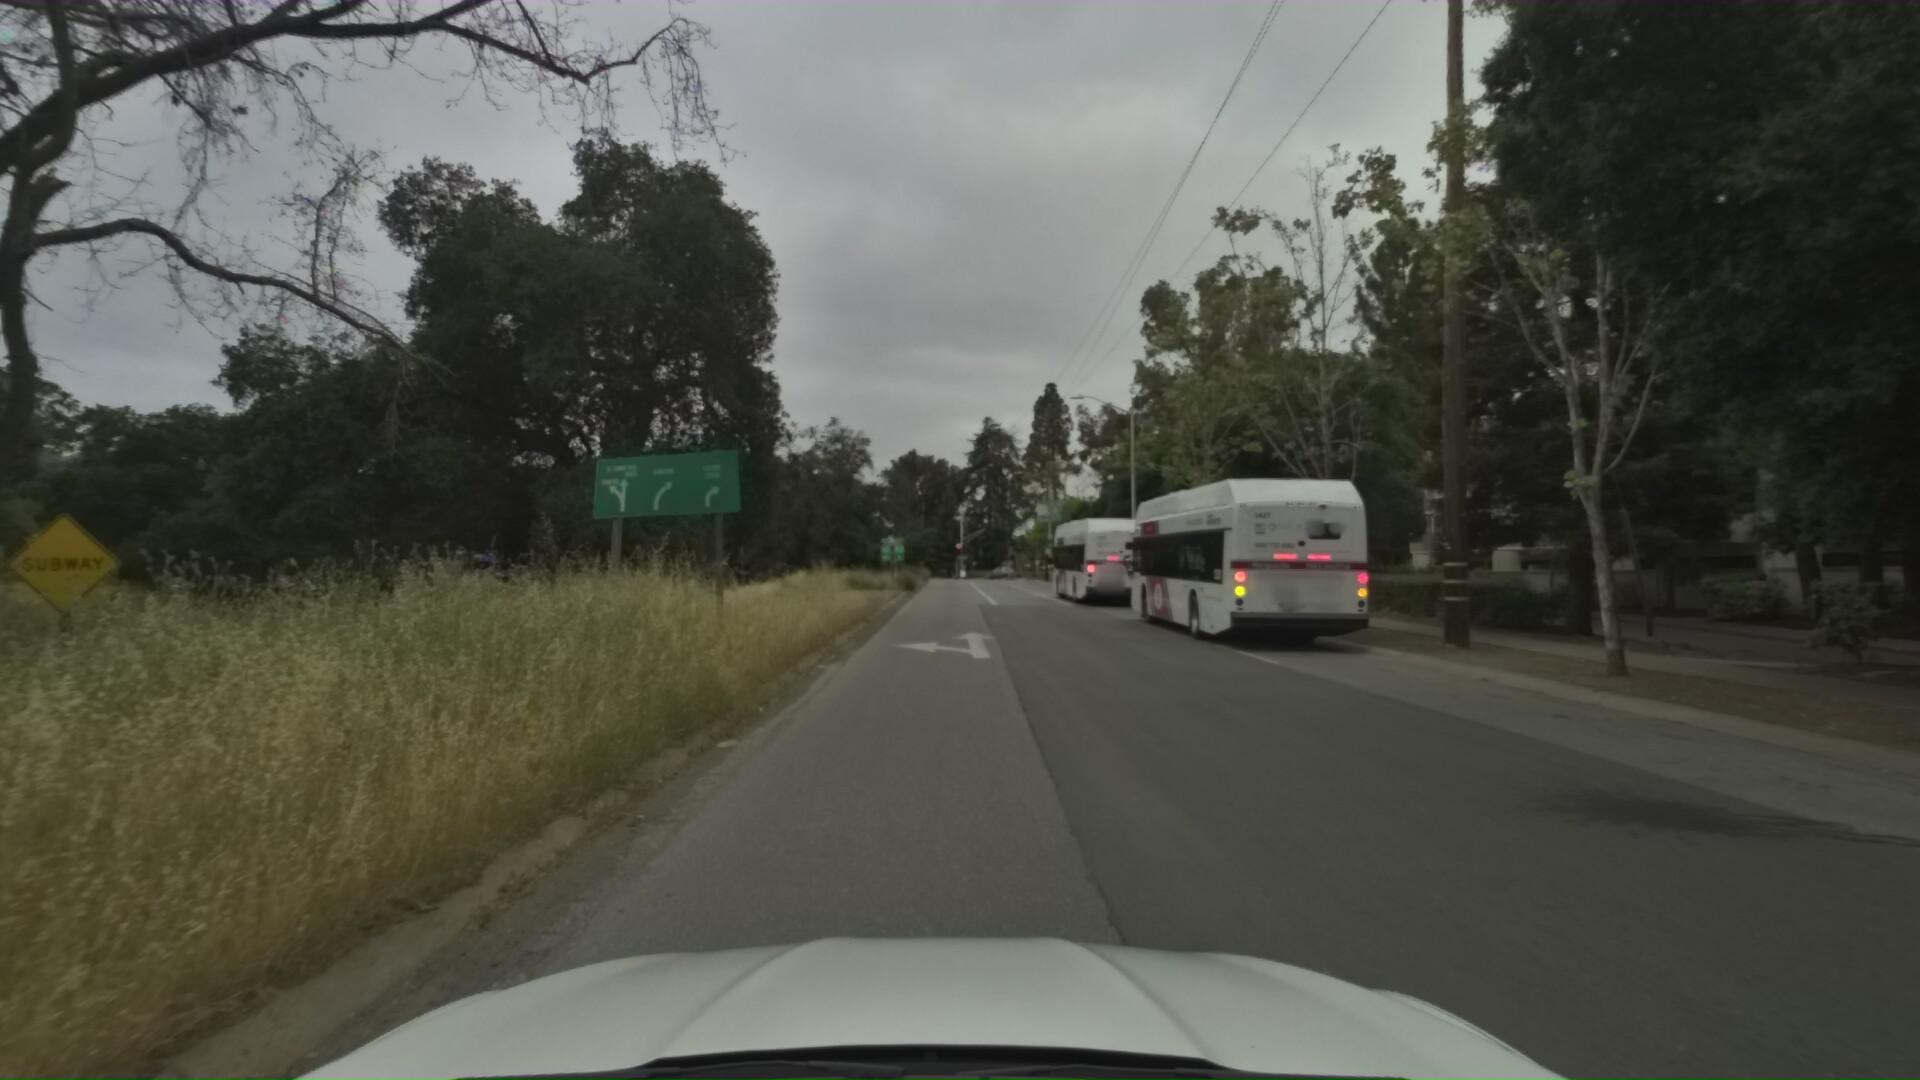bus: (1116, 446, 1389, 646), (1048, 495, 1175, 599)
